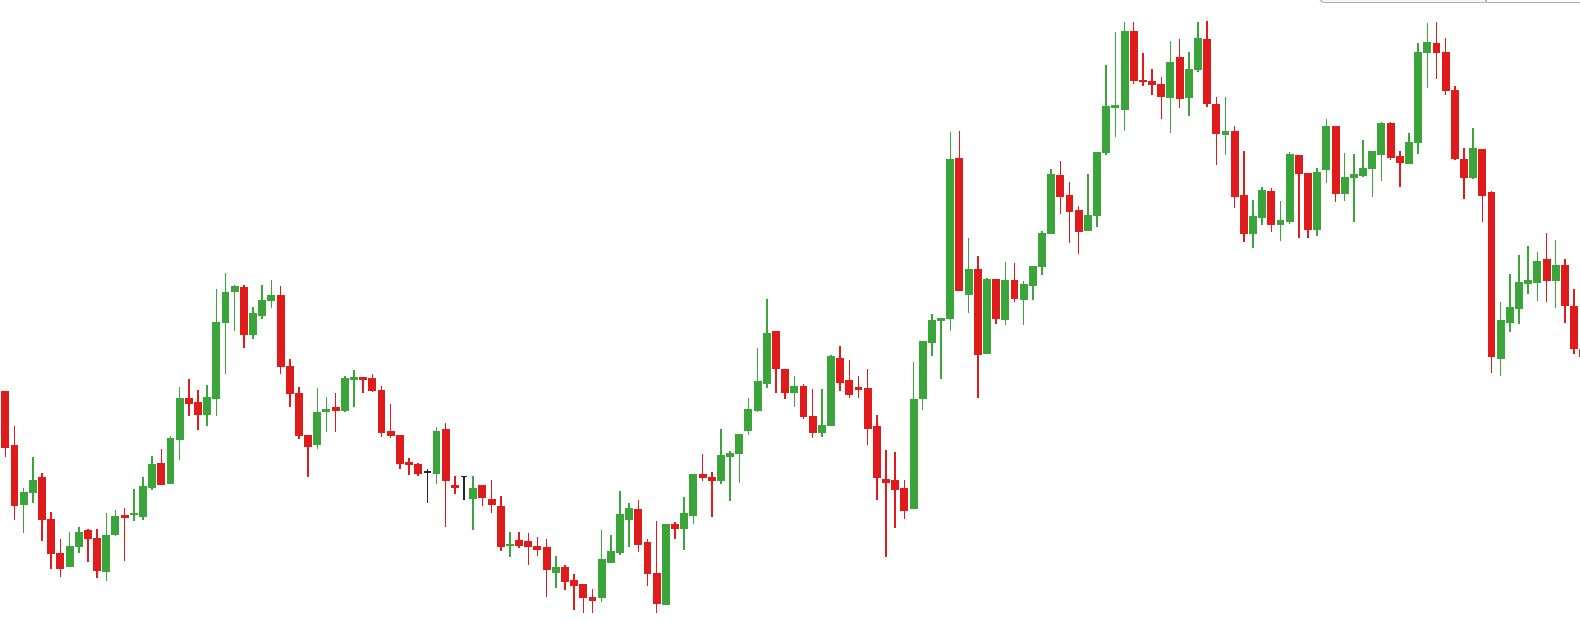buy: (705, 397, 891, 565)
